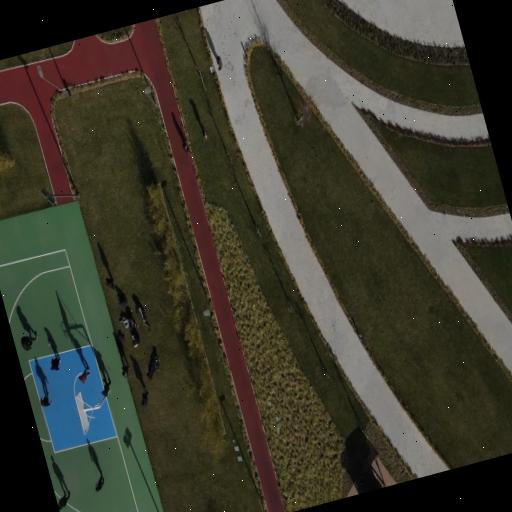person: (146, 349, 158, 380), (135, 304, 149, 329), (20, 332, 36, 350), (118, 314, 136, 327), (115, 328, 127, 346), (57, 491, 69, 508), (129, 328, 139, 347), (101, 377, 110, 395), (78, 368, 89, 382), (95, 473, 103, 491), (50, 355, 59, 370), (117, 292, 126, 307), (141, 385, 147, 406), (39, 395, 50, 406), (121, 361, 129, 376), (105, 276, 114, 289), (182, 140, 189, 153), (201, 125, 207, 139), (215, 55, 221, 69)
